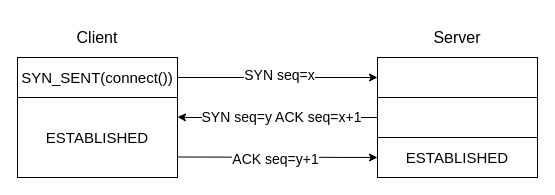
The diagram is 555 pixels wide and 195 high, and some of its shapes have lost their labels. The shapes that lost their labels are listed below. From the top down, each one's centre as x and y in pixels, then its label:
[457,77]: LISTEN(listen())
[457,117]: SYN_RECV
